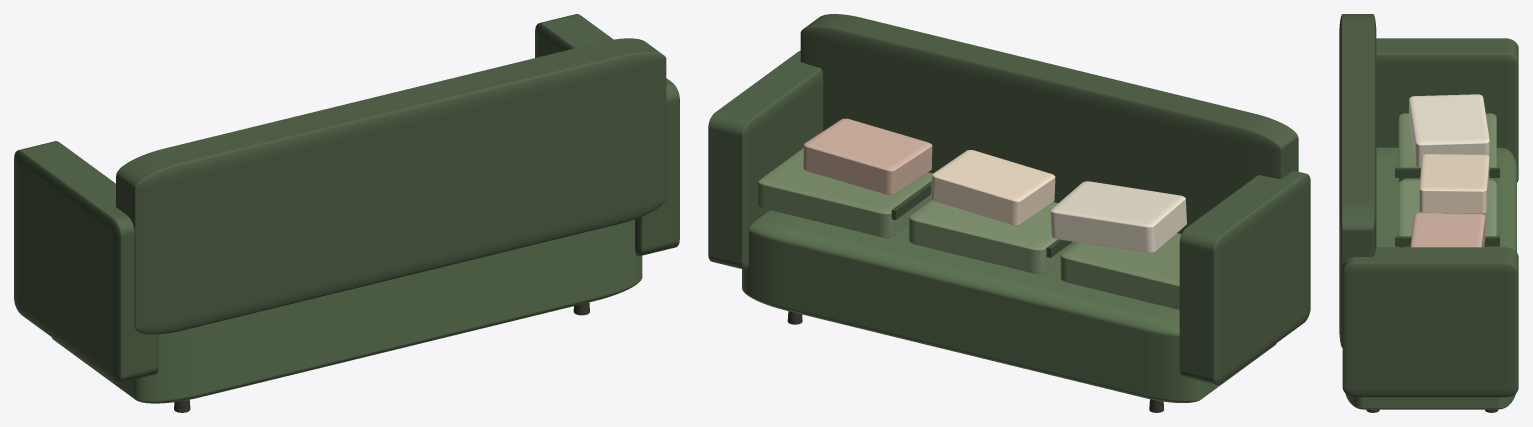
File: sofa.glb
3 renders of one model, left to right at view 1: azimuth 30°, elevation 25°; view 2: azimuth 150°, elevation 25°; view 3: azimuth 270°, elevation 25°, orthographic. The views are drawn at different scales.
Parts seen in each view (by area): view 1: tall rounded sofa back, single long sofa base with soft rounded upholstery, left rounded arm rest, right rounded arm rest; view 2: tall rounded sofa back, single long sofa base with soft rounded upholstery, left rounded arm rest, right rounded arm rest, cream throw pillow, right seat cushion seam, center seat cushion seam, rose throw pillow, linen throw pillow, left seat cushion seam, dark cushion groove; view 3: right rounded arm rest, left rounded arm rest, tall rounded sofa back, single long sofa base with soft rounded upholstery, cream throw pillow, linen throw pillow, rose throw pillow, center seat cushion seam, left seat cushion seam, dark cushion groove (×2).
Boxes of the visible parts, bbox=[...] form: tall rounded sofa back: bbox=[116, 38, 666, 334]; single long sofa base with soft rounded upholstery: bbox=[52, 219, 642, 403]; left rounded arm rest: bbox=[14, 141, 158, 383]; right rounded arm rest: bbox=[535, 14, 679, 256]; tall rounded sofa back: bbox=[800, 14, 1298, 233]; single long sofa base with soft rounded upholstery: bbox=[742, 210, 1276, 402]; left rounded arm rest: bbox=[1179, 171, 1310, 384]; right rounded arm rest: bbox=[708, 50, 823, 269]; cream throw pillow: bbox=[1050, 181, 1186, 253]; right seat cushion seam: bbox=[758, 148, 932, 237]; center seat cushion seam: bbox=[909, 200, 1076, 273]; rose throw pillow: bbox=[803, 118, 932, 195]; linen throw pillow: bbox=[931, 150, 1055, 225]; left seat cushion seam: bbox=[1060, 233, 1181, 309]; dark cushion groove: bbox=[891, 181, 931, 219]; right rounded arm rest: bbox=[1342, 247, 1518, 397]; left rounded arm rest: bbox=[1376, 38, 1518, 182]; tall rounded sofa back: bbox=[1339, 14, 1376, 347]; single long sofa base with soft rounded upholstery: bbox=[1345, 147, 1516, 409]; cream throw pillow: bbox=[1409, 94, 1489, 167]; linen throw pillow: bbox=[1419, 154, 1489, 213]; rose throw pillow: bbox=[1410, 212, 1485, 247]; center seat cushion seam: bbox=[1398, 179, 1496, 247]; left seat cushion seam: bbox=[1398, 113, 1496, 182]; dark cushion groove (×2): bbox=[1395, 167, 1499, 246].
Bounding box in the file's own units: 3.16 × 1.42 × 1.06.
